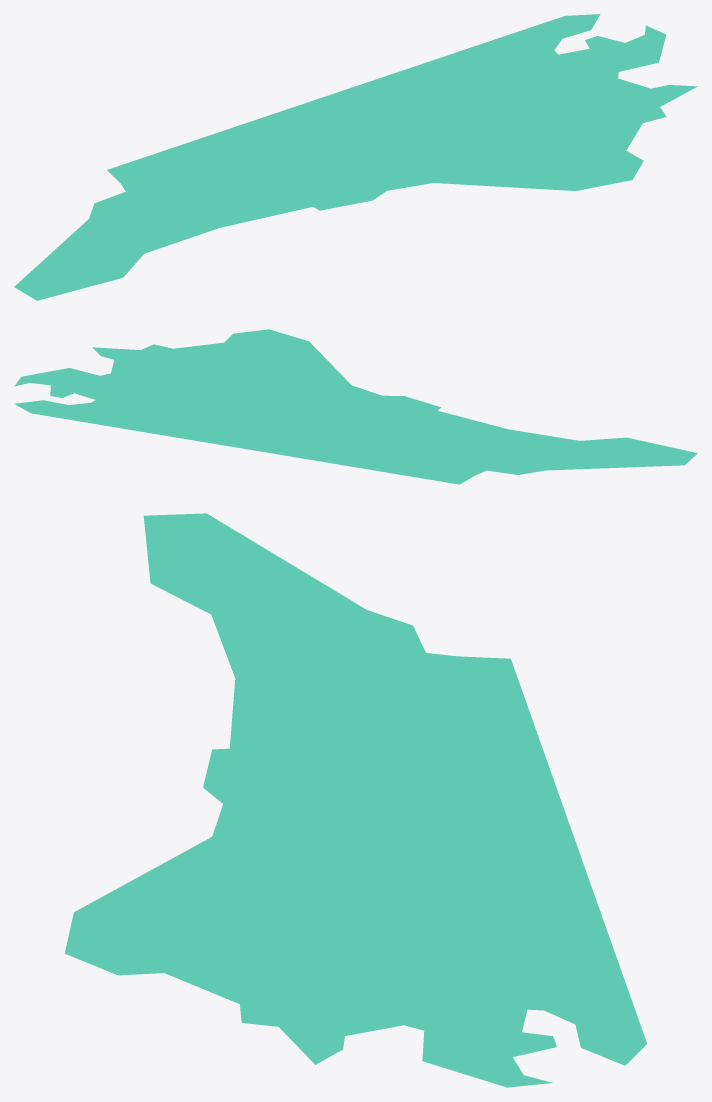
File: NorthCarolina.glb
3 views of the same model, one above another, from view 1: azimuth 30°, elevation 25°; view 2: azimuth 150°, elevation 25°; view 3: azimuth 270°, elevation 25° (orthographic). The views are drawn at different scales.
Parts seen in each view (by area): view 1: Plane.072; view 2: Plane.072; view 3: Plane.072.
Boxes of the visible parts, x1,y1,x2,y2 form: Plane.072: [14, 14, 697, 300]; Plane.072: [14, 329, 697, 484]; Plane.072: [64, 513, 646, 1087].
Size of the model in its own units: 4.13 by 9.06e-08 by 1.77.
